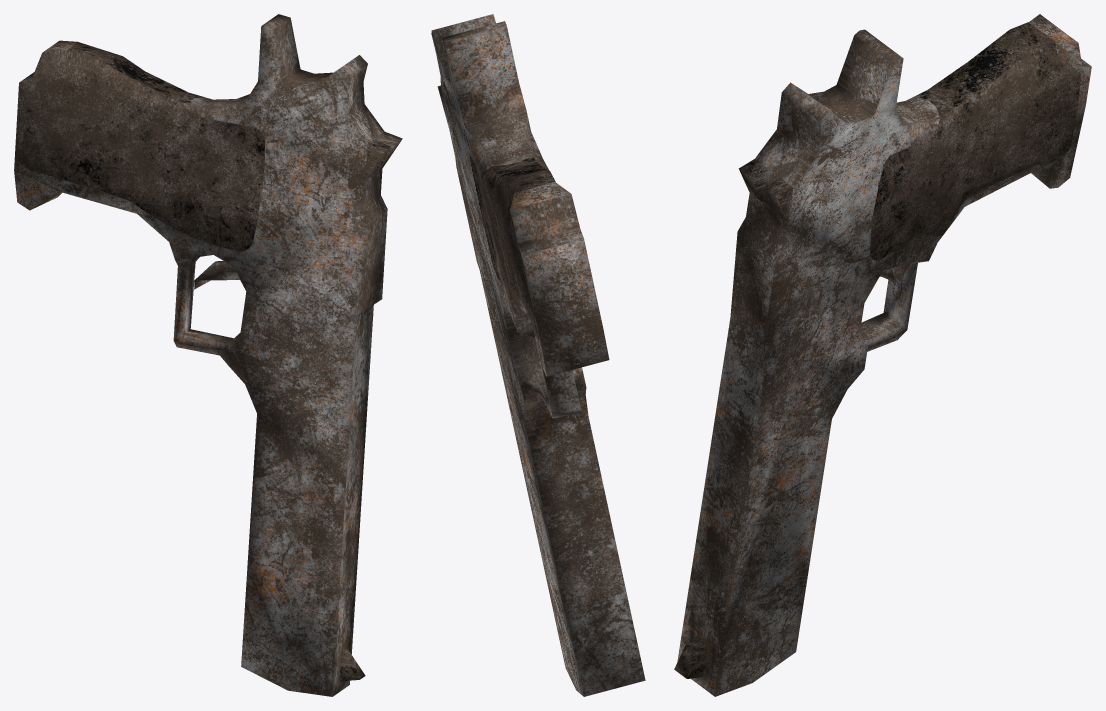
The model's file is Anim_disparar_pistola_objetos.0012.obj.
The picture shows the model from 3 angles, left to right: view 1: azimuth 30°, elevation 25°; view 2: azimuth 150°, elevation 25°; view 3: azimuth 270°, elevation 25°; orthographic projection. The views are drawn at different scales.
Parts seen in each view (by area): view 1: Pistola1; view 2: Pistola1; view 3: Pistola1.
Part boxes in pixels (bbox=[...]): Pistola1: bbox=[14, 14, 402, 696]; Pistola1: bbox=[431, 14, 645, 696]; Pistola1: bbox=[674, 14, 1091, 696].
Bounding box in the file's own units: 0.776 × 1.7 × 0.978.
